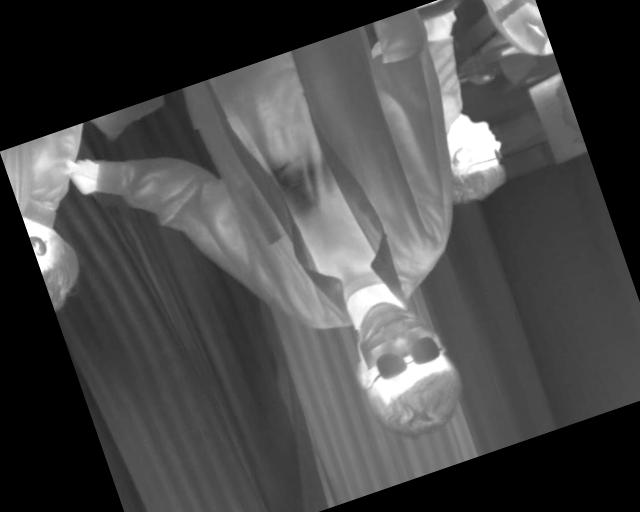face: (290, 168, 436, 322), (10, 282, 129, 427)
